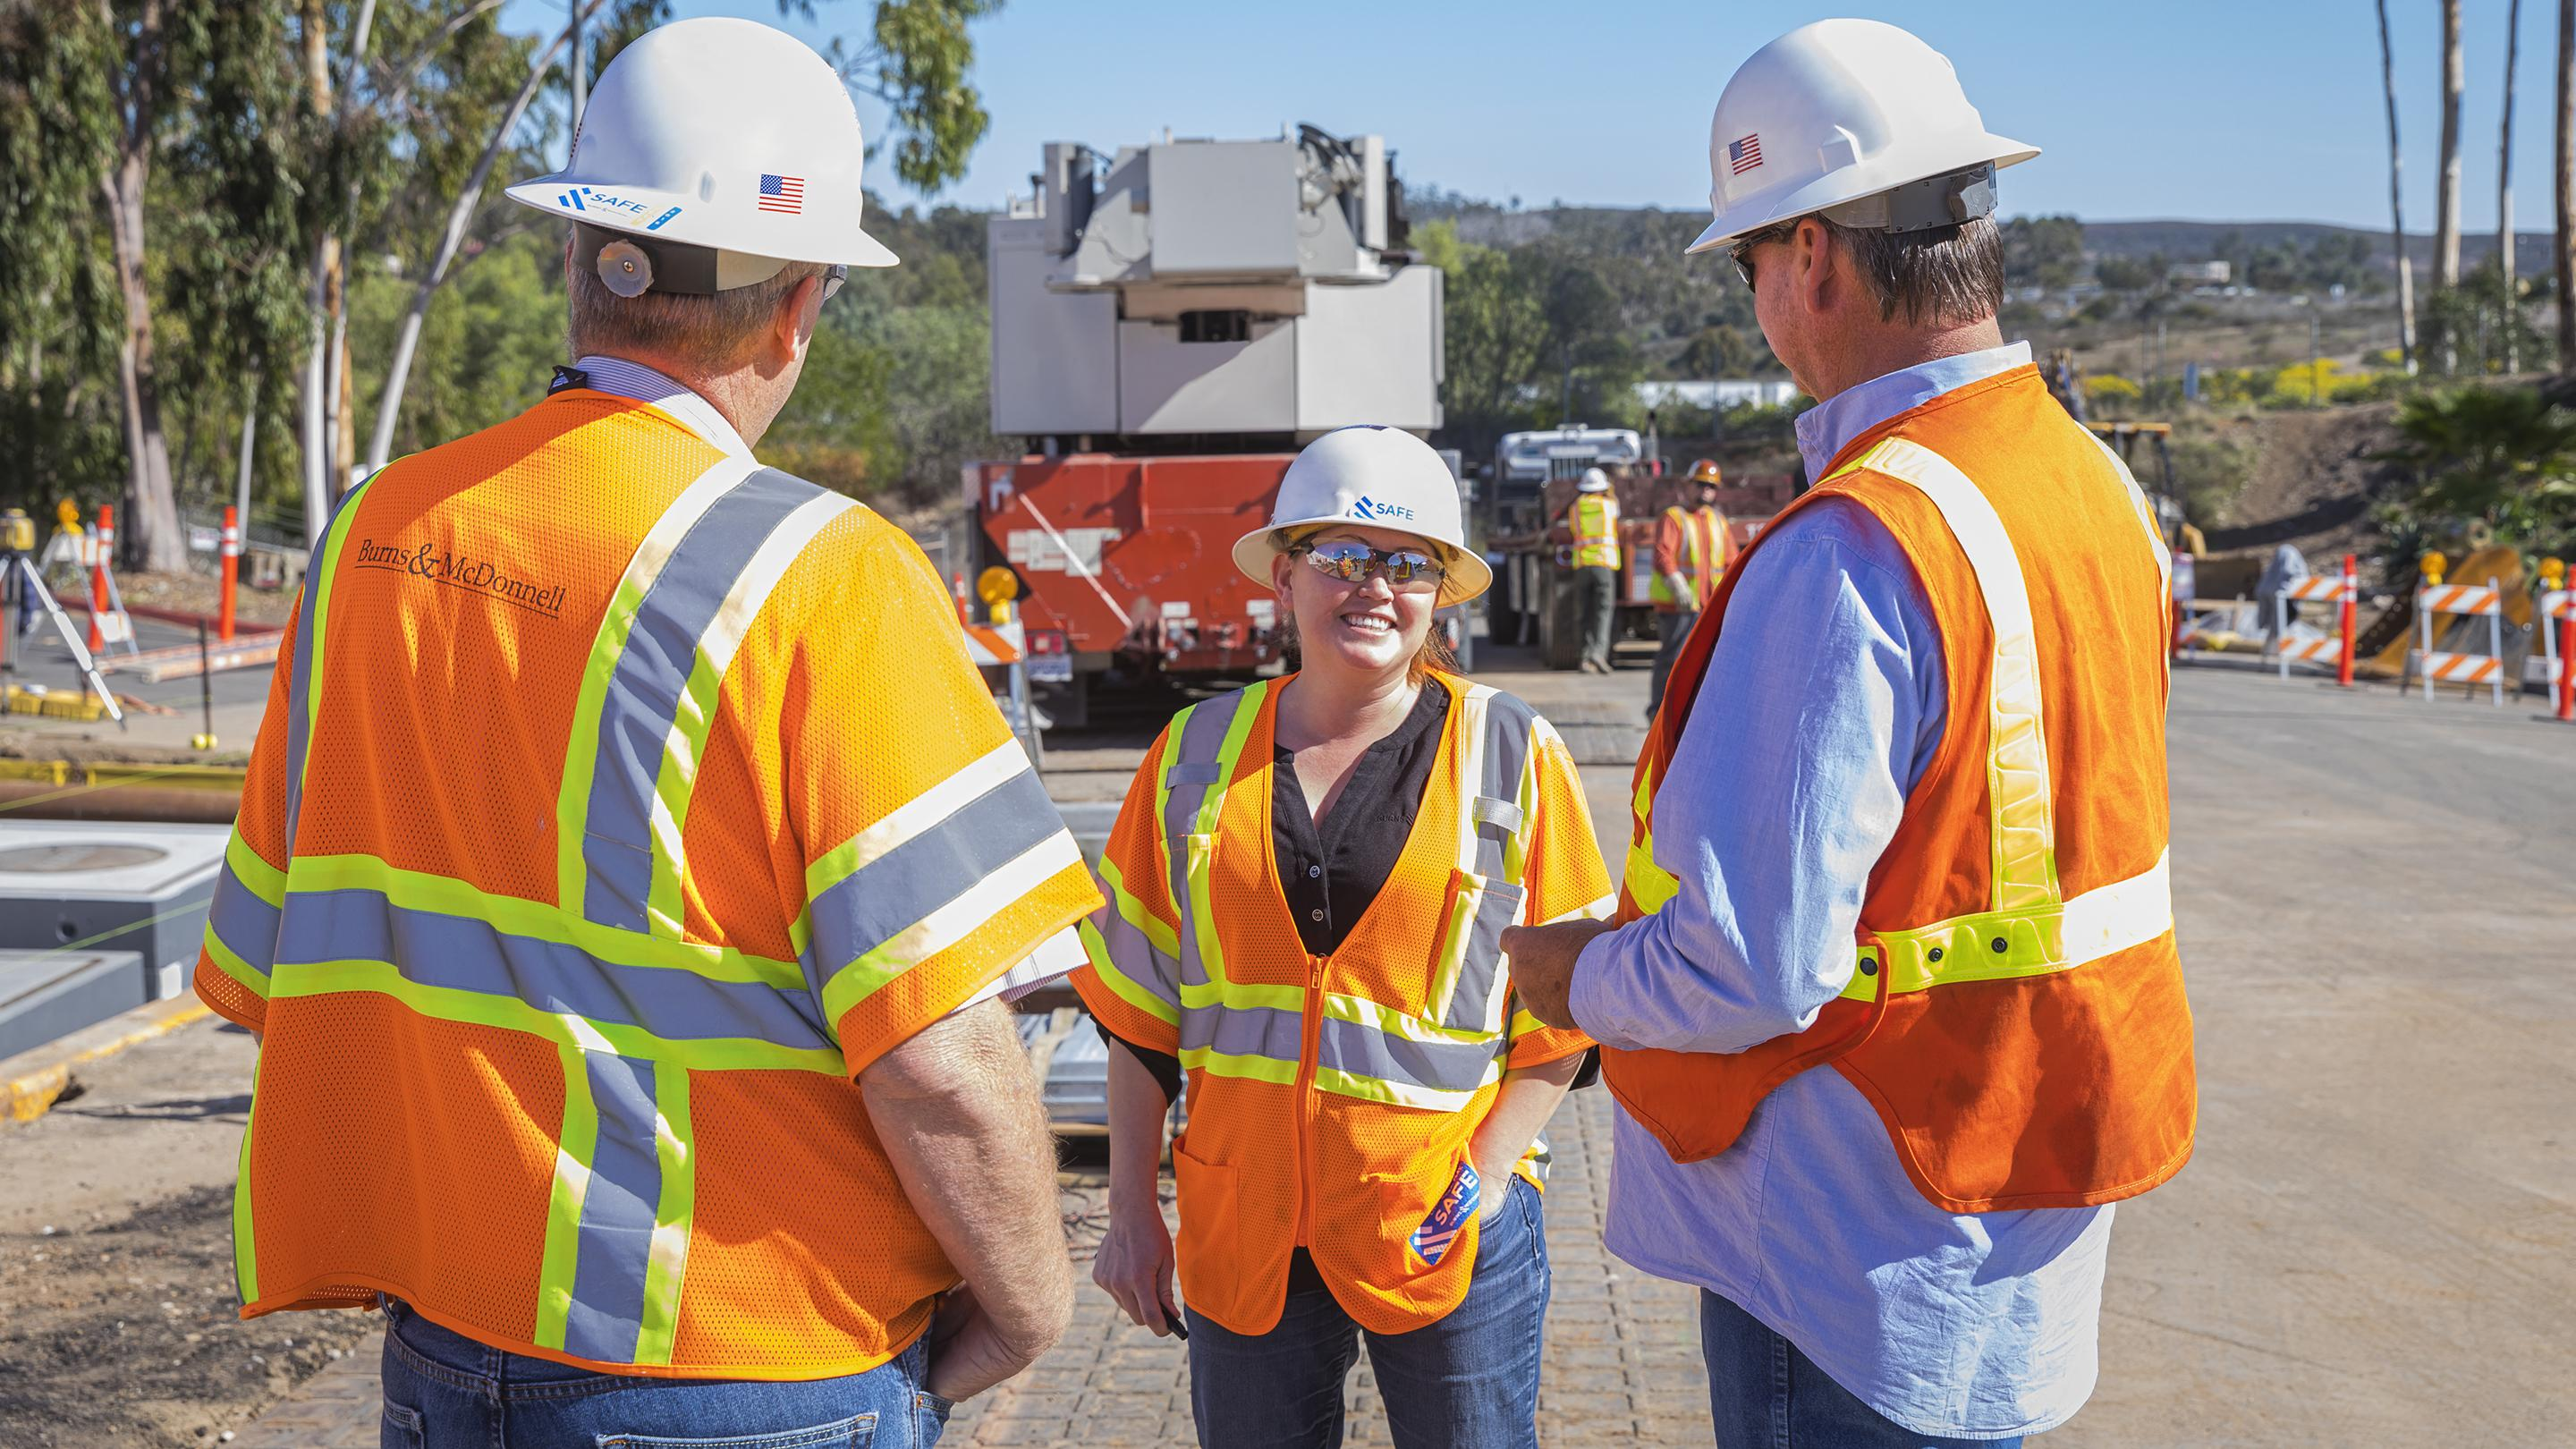helmet: (510, 14, 902, 276), (1684, 14, 2045, 260), (1233, 426, 1499, 598), (1684, 455, 1729, 492), (1578, 467, 1612, 495)
